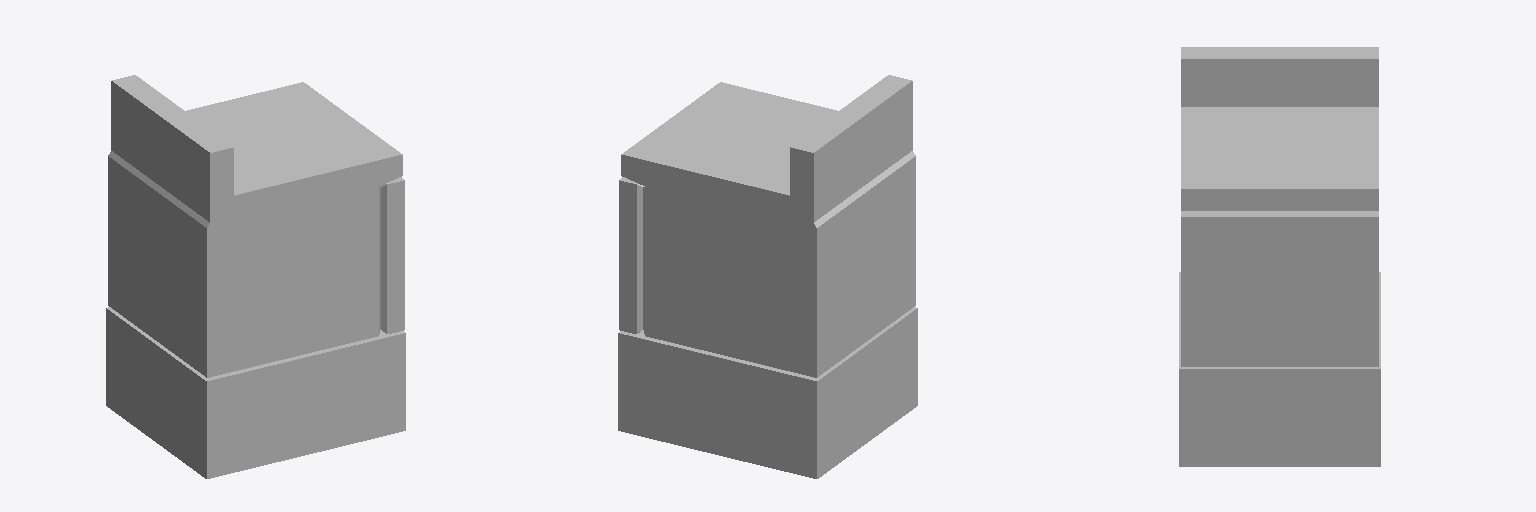
File: Oven.obj
3 views of the same model, side by side, from view 1: azimuth 30°, elevation 25°; view 2: azimuth 150°, elevation 25°; view 3: azimuth 270°, elevation 25° (orthographic).
Visible parts, largest first — view 1: Cube; view 2: Cube; view 3: Cube.
Part boxes in pixels (x1,y1,x2,y2): Cube: (106,75,405,478); Cube: (618,75,917,478); Cube: (1179,47,1380,466).
Size of the model in its own units: 2.29 by 3.56 by 2.